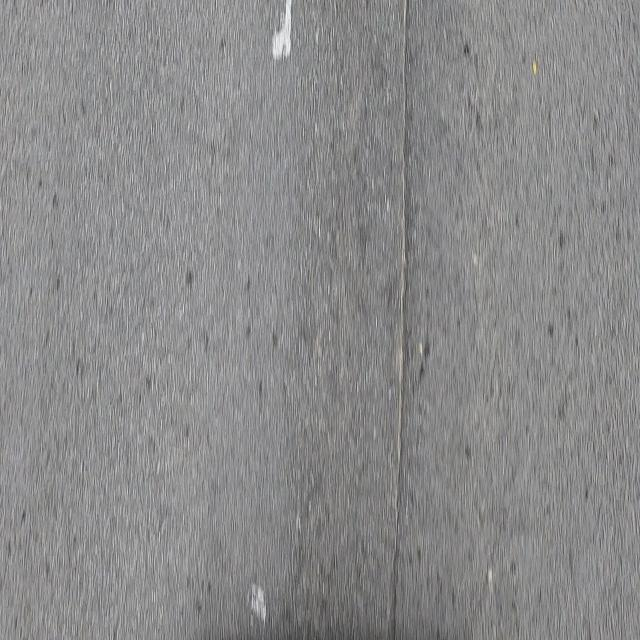Retak-Memanjang: (386, 5, 414, 640)
